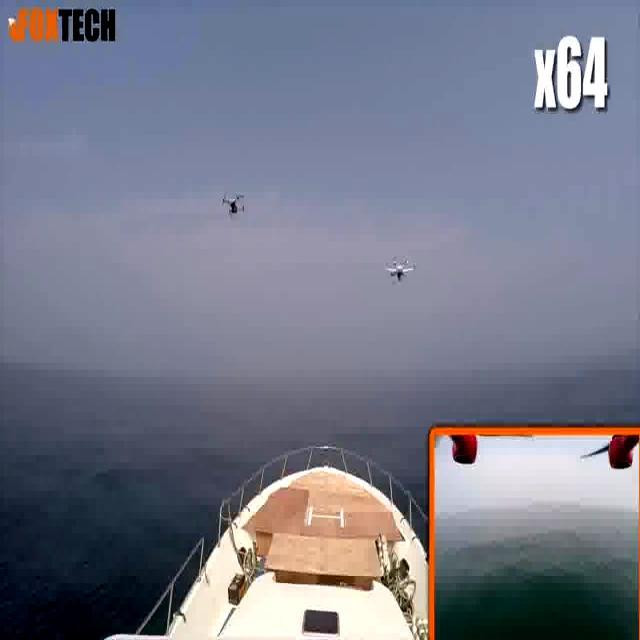drone: (378, 246, 419, 290), (218, 184, 250, 224)
